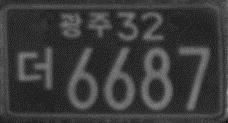2: (138, 10, 165, 42)
3: (114, 10, 139, 41)
6: (102, 45, 137, 111), (65, 46, 97, 111)
7: (175, 43, 214, 112)
8: (140, 46, 175, 111)
광주_O: (59, 10, 111, 39)
더: (17, 43, 54, 92)
